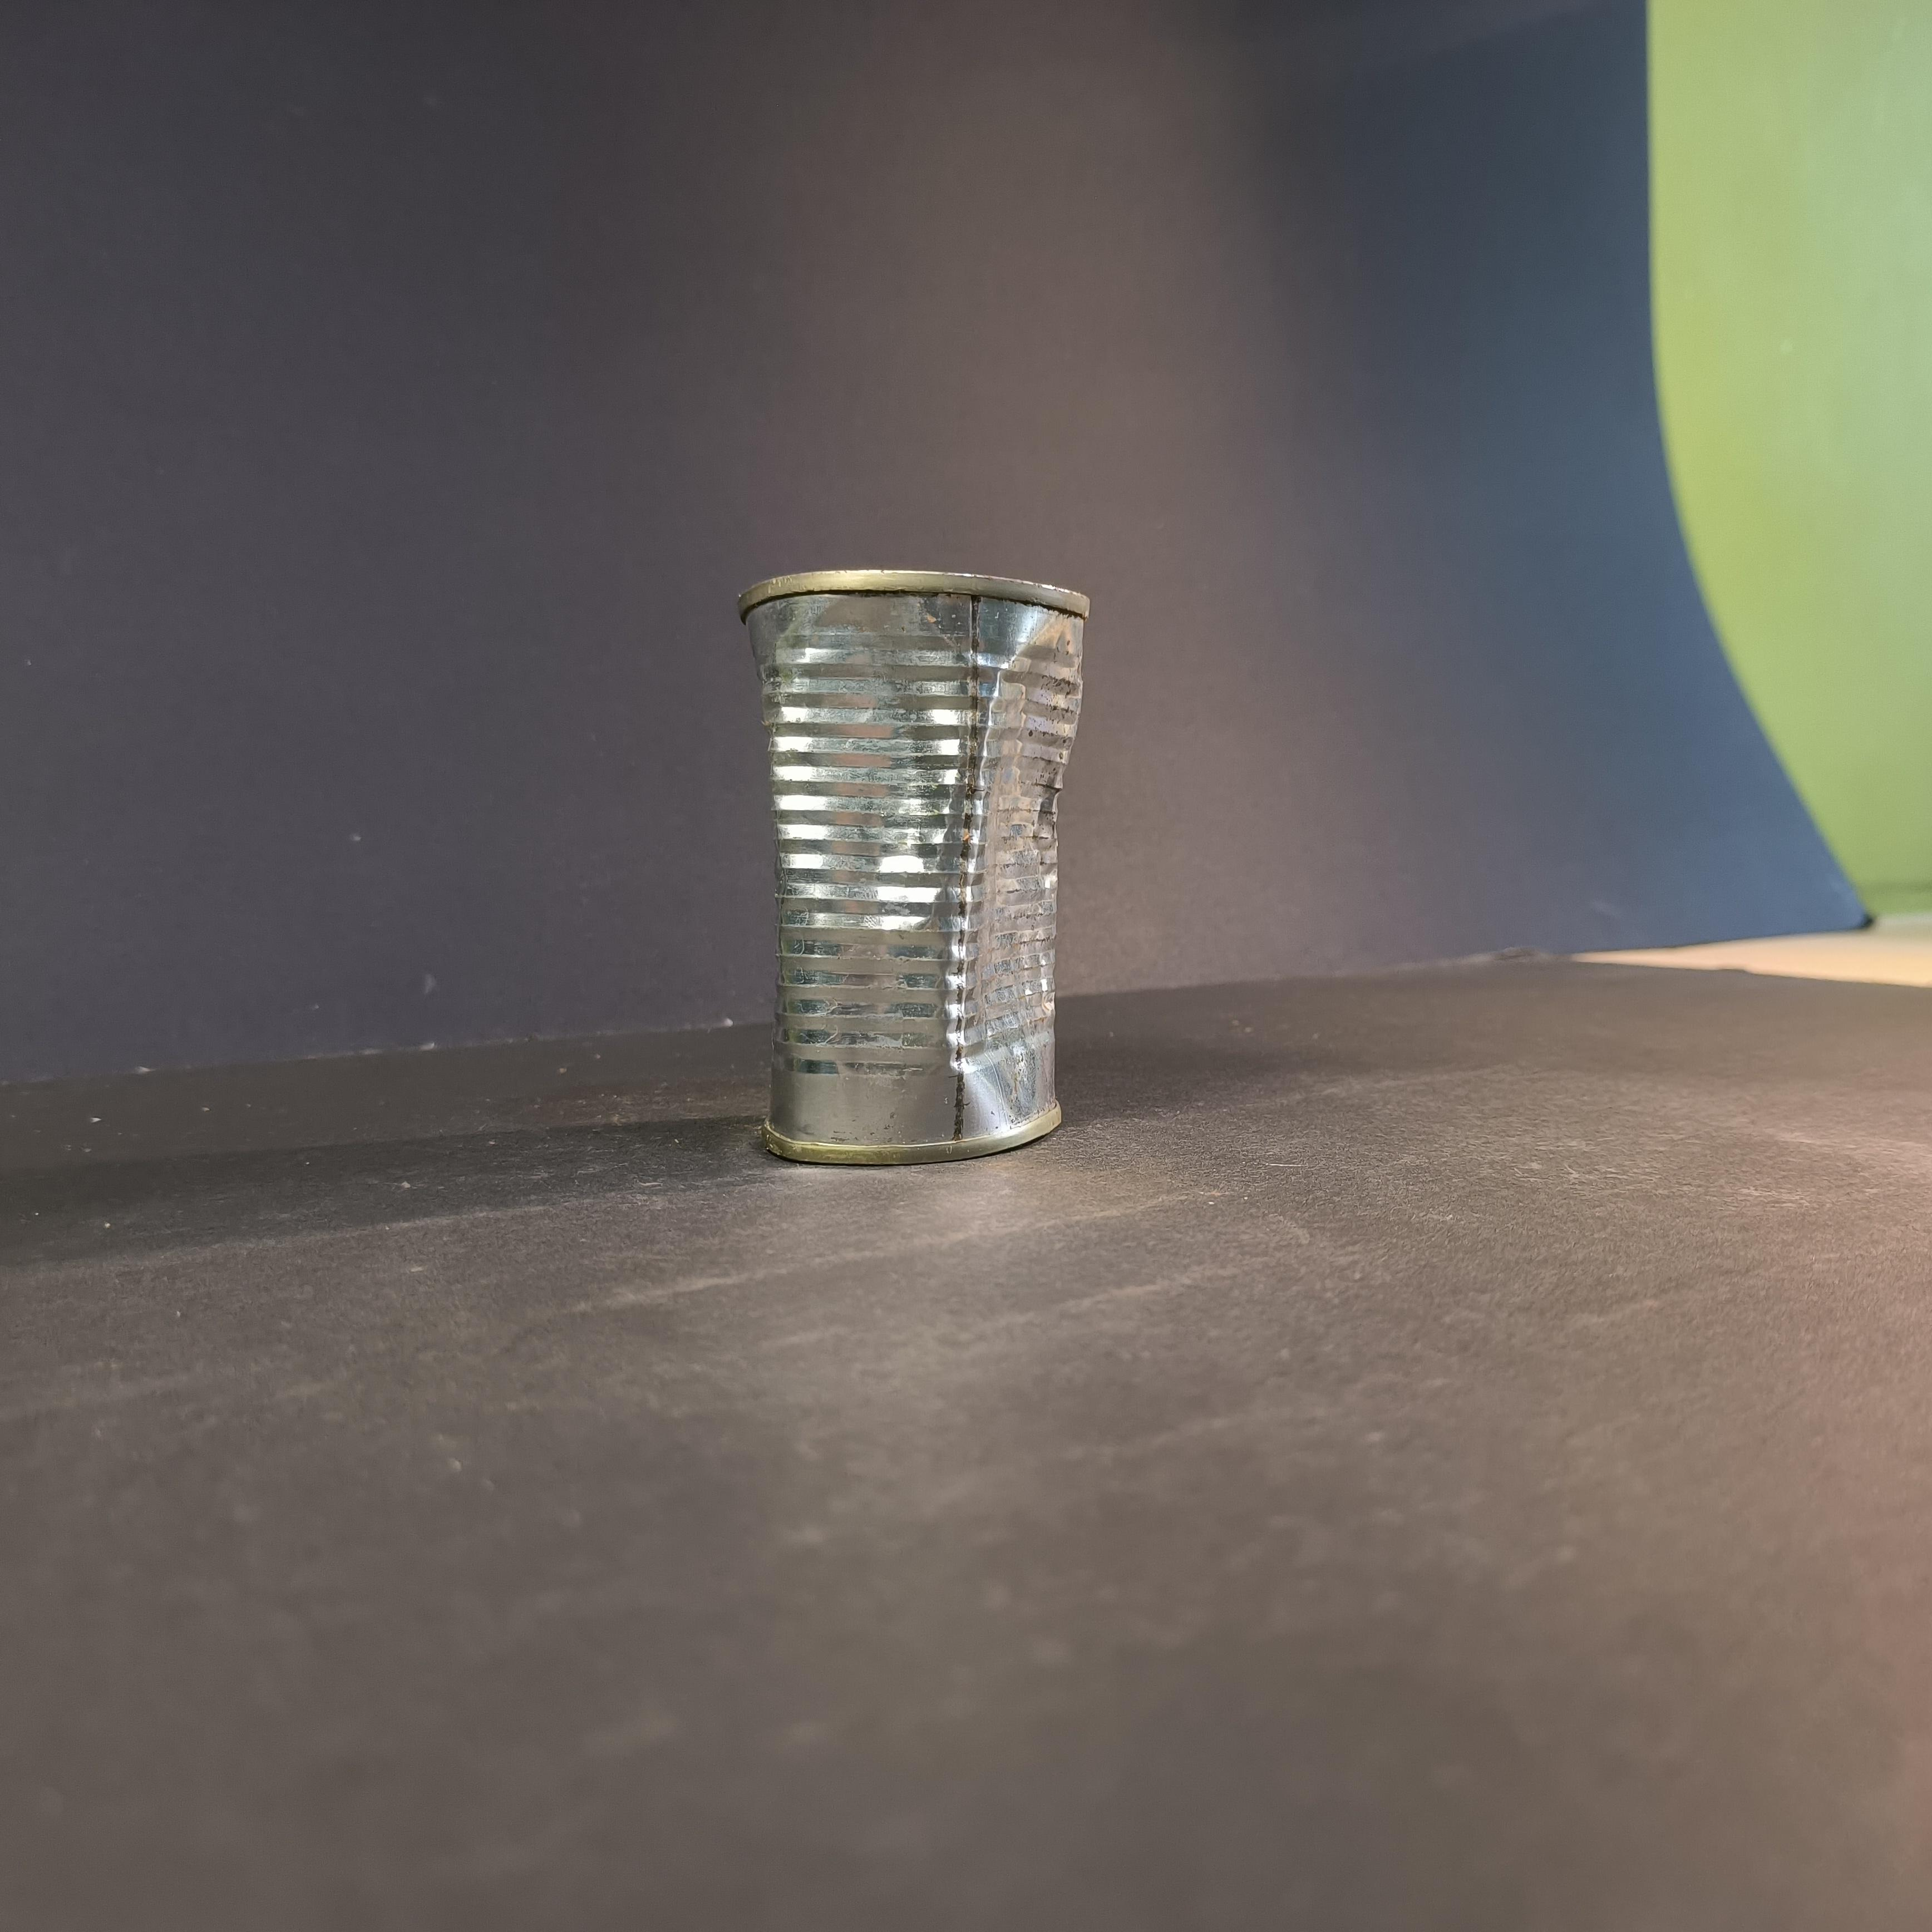Dented: (718, 563, 1108, 1177)
